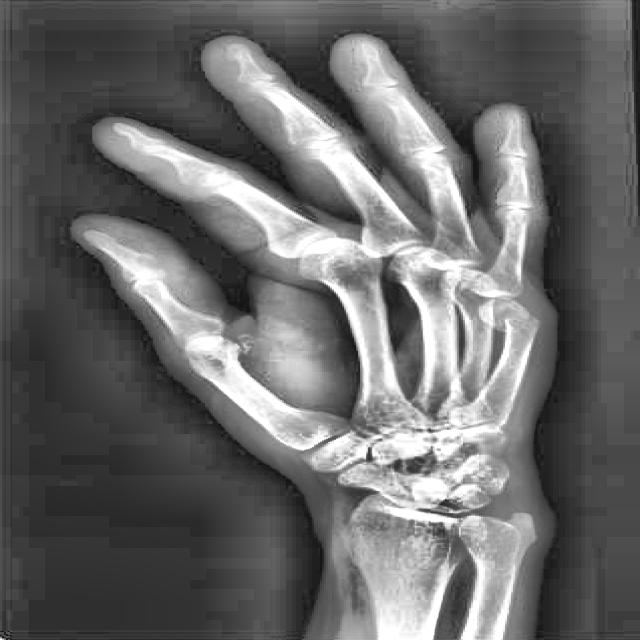fracture: (487, 313, 541, 337)
